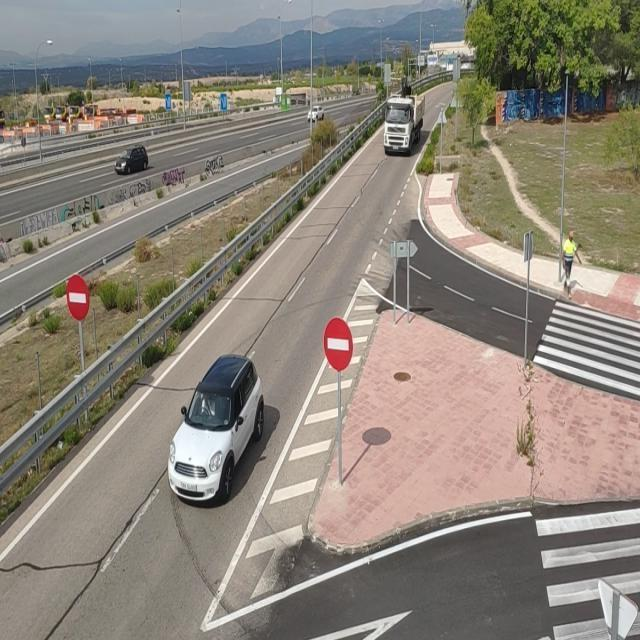Car: (162, 345, 262, 508), (112, 136, 155, 174), (308, 106, 325, 122)
Truck: (382, 90, 432, 158)
